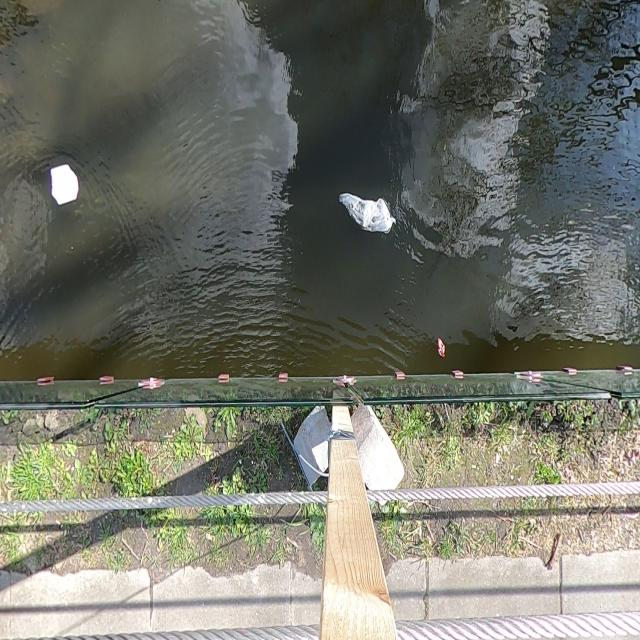Autre plastique: (46, 161, 83, 209)
Sac plastique: (336, 188, 400, 239)
